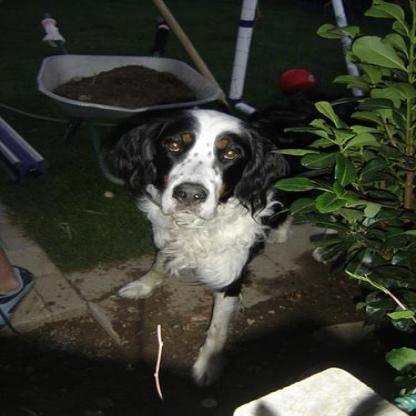Appenzeller: (83, 107, 295, 388)
